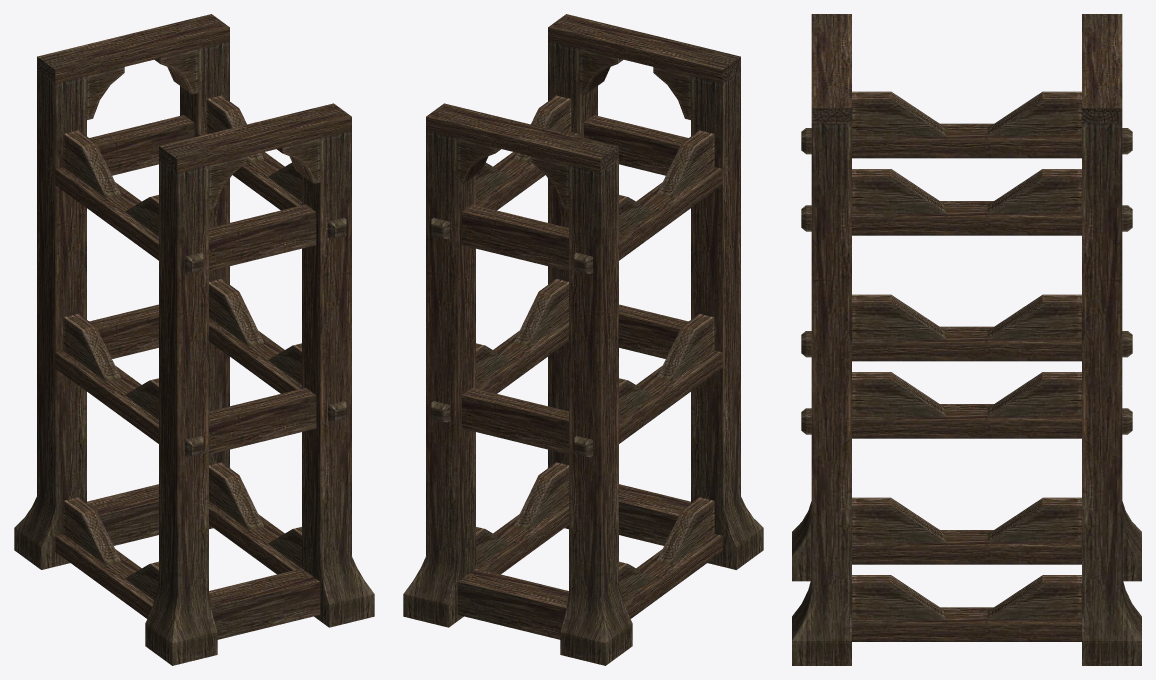
Rendered from eso_gu2_woodfurniture21-transformed.glb.
The picture shows the model from 3 angles, left to right: view 1: azimuth 30°, elevation 25°; view 2: azimuth 150°, elevation 25°; view 3: azimuth 270°, elevation 25°; orthographic projection. The views are drawn at different scales.
Parts seen in each view (by area): view 1: default; view 2: default; view 3: default.
Boxes of the visible parts, <box> form: default: <box>14,14,374,665</box>; default: <box>403,14,763,665</box>; default: <box>792,14,1141,665</box>.
Size of the model in its own units: 1.17 by 2.75 by 1.58.
1 material, 1 textured.
